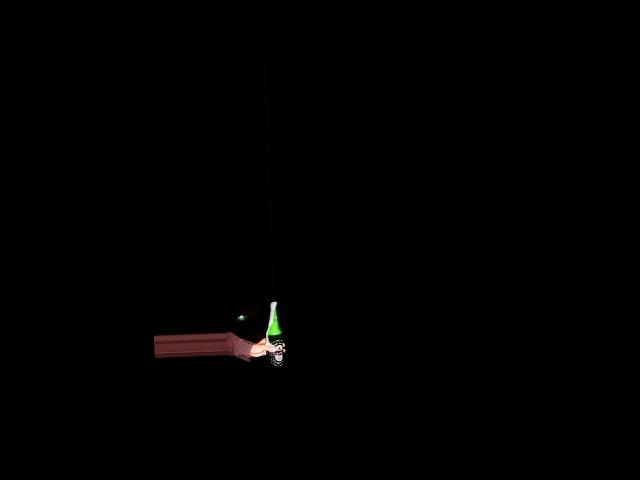beer: (264, 304, 285, 368)
